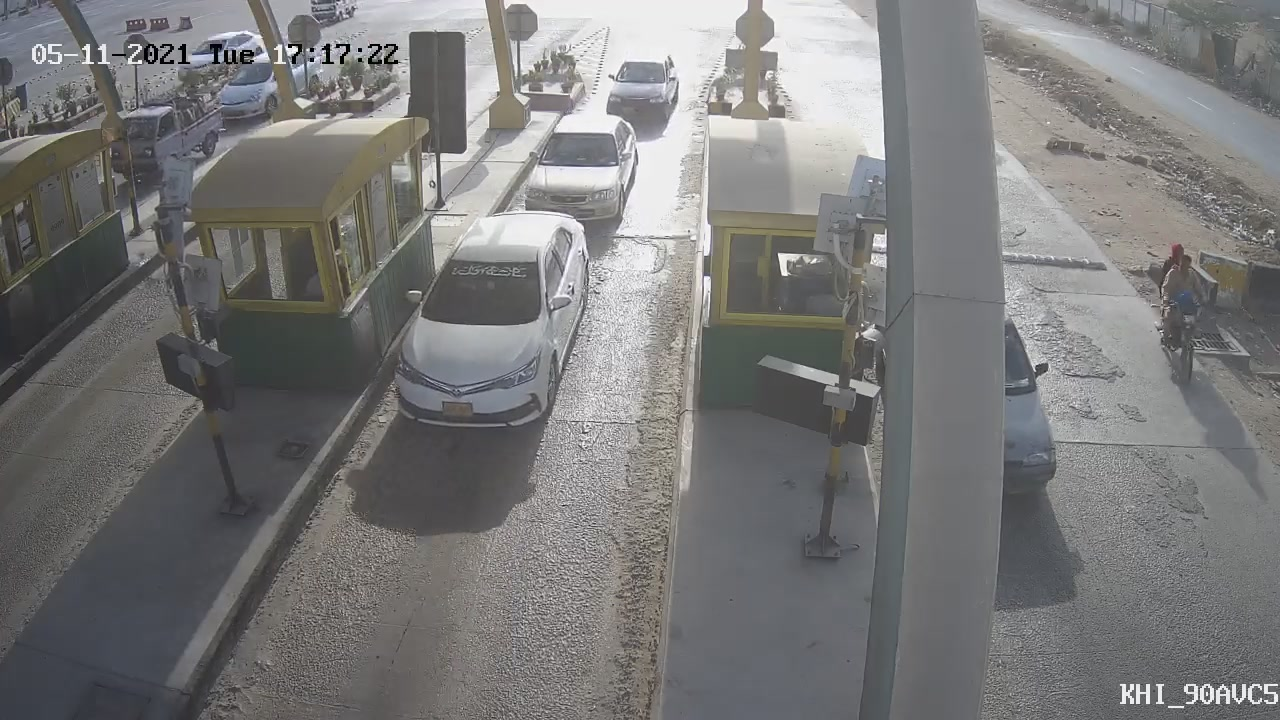F1: (370, 198, 608, 451), (513, 99, 651, 244), (600, 44, 687, 130)
